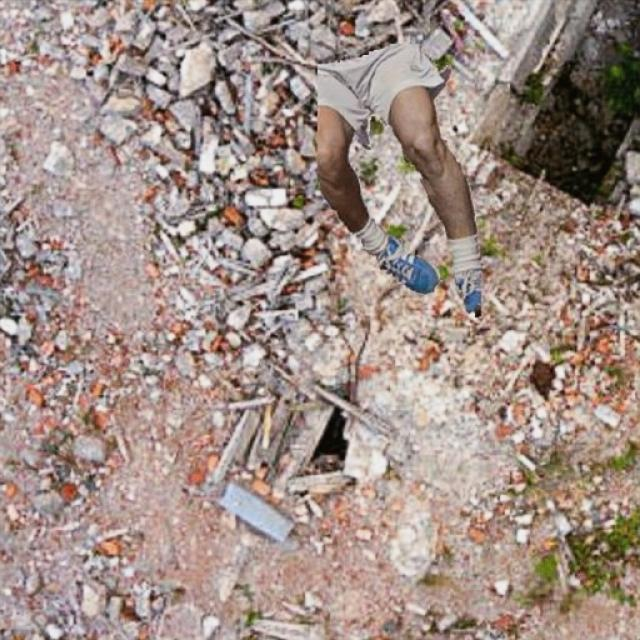Person in Rubble: (318, 44, 480, 316)
